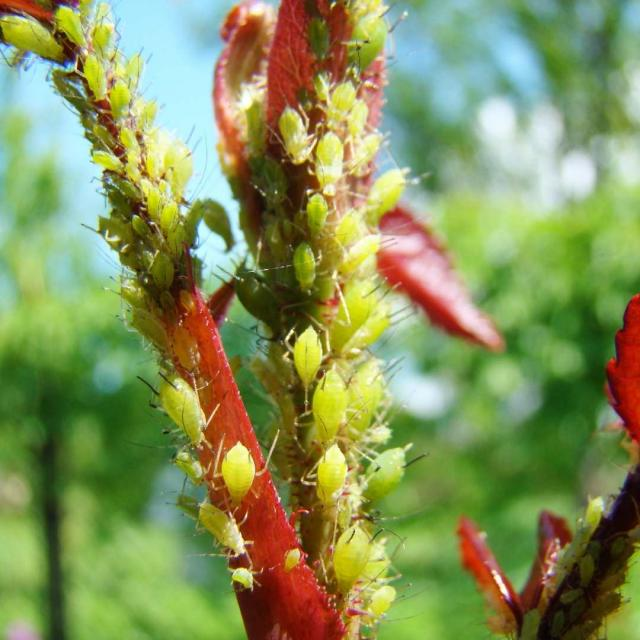Aphid-Grouped-: (264, 71, 405, 574), (36, 7, 208, 291)
Aphid-Grown-: (147, 369, 215, 449), (214, 430, 273, 508), (326, 519, 384, 598), (186, 497, 255, 563), (307, 366, 357, 452), (265, 94, 320, 168), (284, 320, 329, 394), (307, 438, 351, 511), (283, 234, 328, 302), (307, 123, 346, 195), (72, 46, 112, 106), (302, 190, 339, 246), (100, 76, 137, 125)
